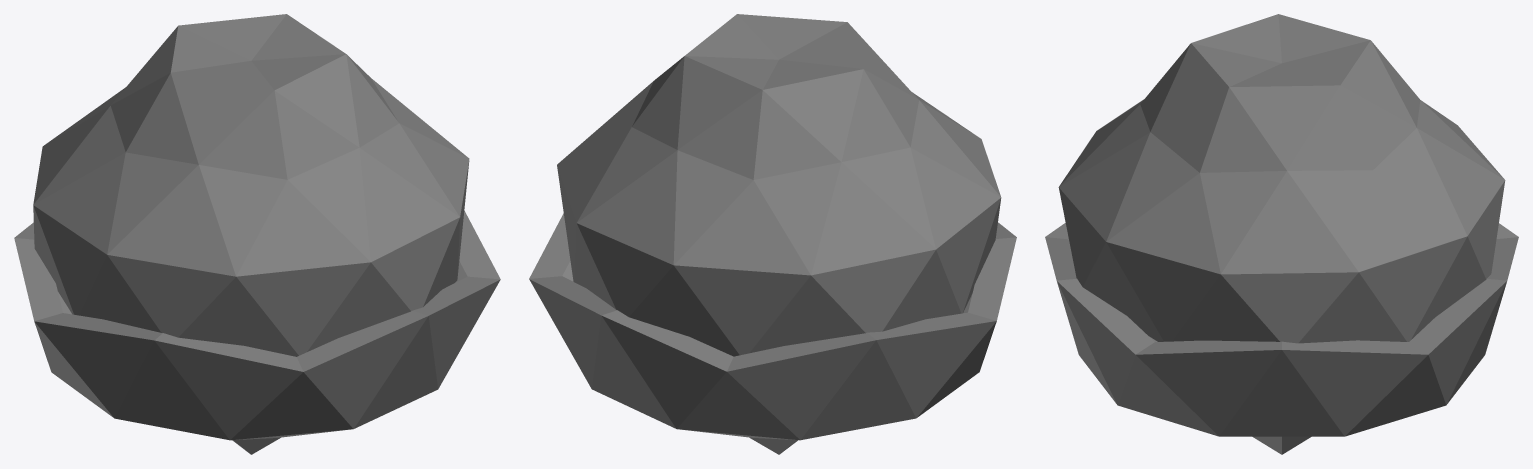
The model's file is holy_stone.gltf.
3 renders of one model, left to right at view 1: azimuth 30°, elevation 25°; view 2: azimuth 150°, elevation 25°; view 3: azimuth 270°, elevation 25°, orthographic.
Visible parts, largest first — view 1: Icosphere, Icosphere.001; view 2: Icosphere, Icosphere.001; view 3: Icosphere, Icosphere.001.
Part boxes in pixels (x1=…): Icosphere: x1=33, y1=14, x2=469, y2=356; Icosphere.001: x1=14, y1=210, x2=500, y2=454; Icosphere: x1=557, y1=14, x2=1001, y2=356; Icosphere.001: x1=529, y1=213, x2=1016, y2=454; Icosphere: x1=1058, y1=14, x2=1505, y2=343; Icosphere.001: x1=1045, y1=223, x2=1518, y2=454.
Bounding box in the file's own units: 2.39 × 2.18 × 2.33.
Materials: 2 (2 with a texture image).
